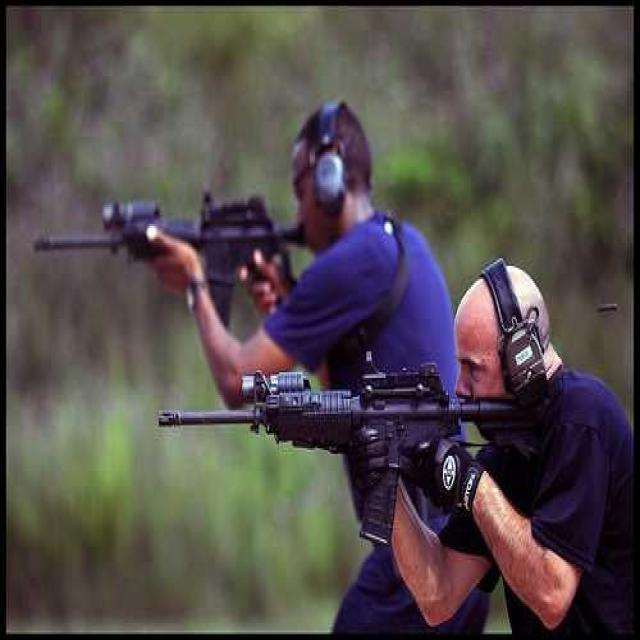heavyweapon: (140, 358, 579, 535), (29, 168, 330, 337)
